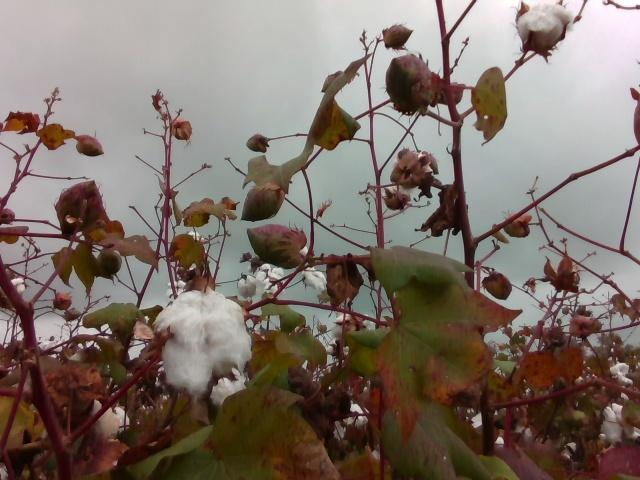cotton_ready: (156, 290, 252, 392), (517, 1, 577, 49), (599, 399, 640, 440), (332, 402, 368, 440), (213, 369, 249, 406), (90, 402, 125, 439)
